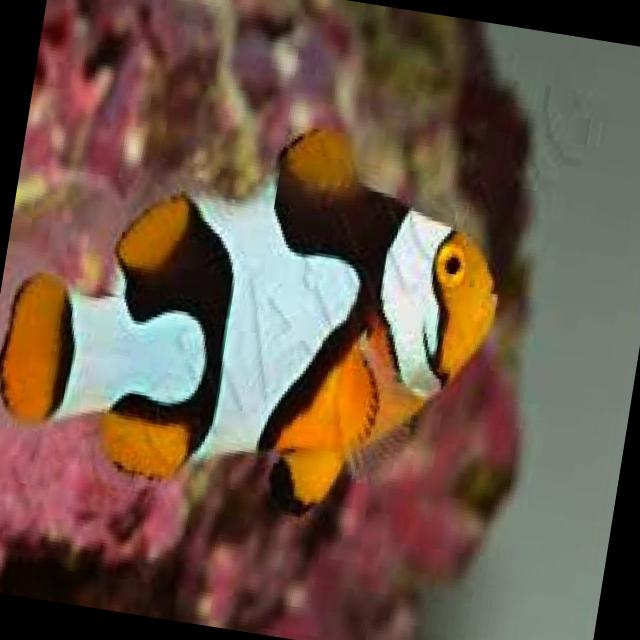ClownFish: (0, 88, 519, 536)
